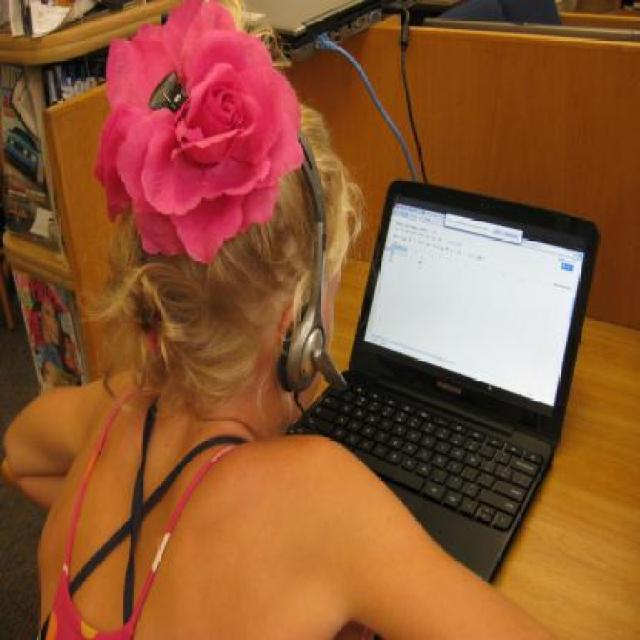earphone: (258, 132, 348, 423)
laptop_computer: (362, 150, 590, 537)
